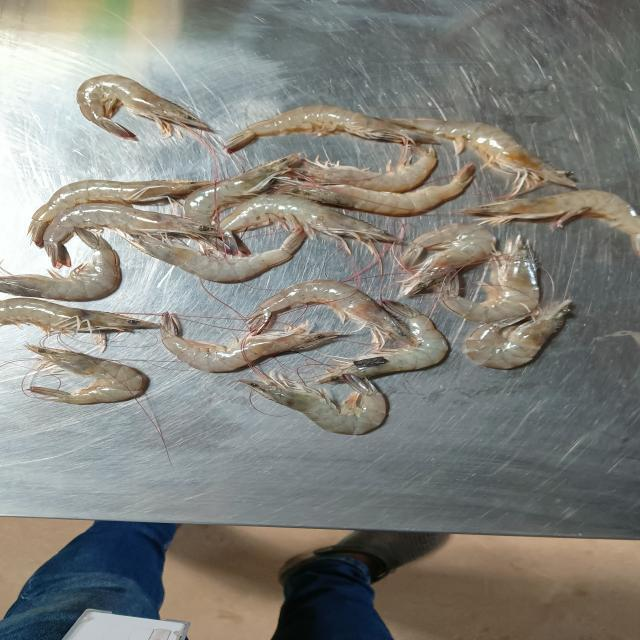shrimp: (389, 118, 578, 188), (122, 214, 310, 284), (25, 180, 217, 247), (460, 190, 640, 261), (38, 202, 215, 268), (247, 278, 420, 345), (215, 192, 399, 254), (312, 300, 447, 383), (159, 312, 333, 375), (275, 165, 476, 218), (221, 105, 441, 153), (437, 235, 540, 323), (74, 74, 210, 140), (234, 377, 386, 435), (0, 230, 120, 303), (184, 154, 300, 228), (462, 299, 570, 369), (398, 223, 497, 298), (292, 144, 437, 194), (28, 345, 143, 405), (0, 297, 161, 333)
